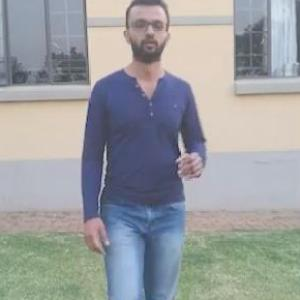follow: (72, 1, 194, 299)
